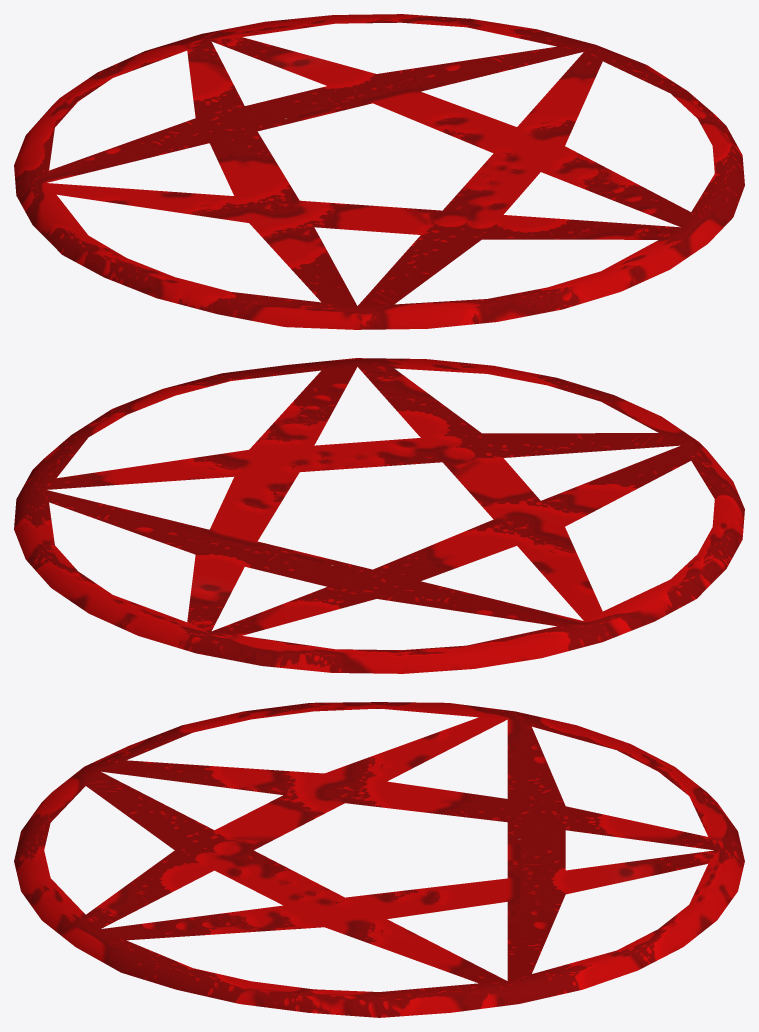
Rendered from demoncircle.fbx.
3 renders of one model, top to bottom at view 1: azimuth 30°, elevation 25°; view 2: azimuth 150°, elevation 25°; view 3: azimuth 270°, elevation 25°, orthographic.
Parts seen in each view (by area): view 1: DemonCircle; view 2: DemonCircle; view 3: DemonCircle.
Part boxes in pixels (left/top/right/bottom): DemonCircle: left=14, top=14, right=744, bottom=329; DemonCircle: left=14, top=358, right=744, bottom=673; DemonCircle: left=14, top=702, right=744, bottom=1017.
Bounding box in the file's own units: 184 × 3.73 × 184.
1 material, 1 textured.
